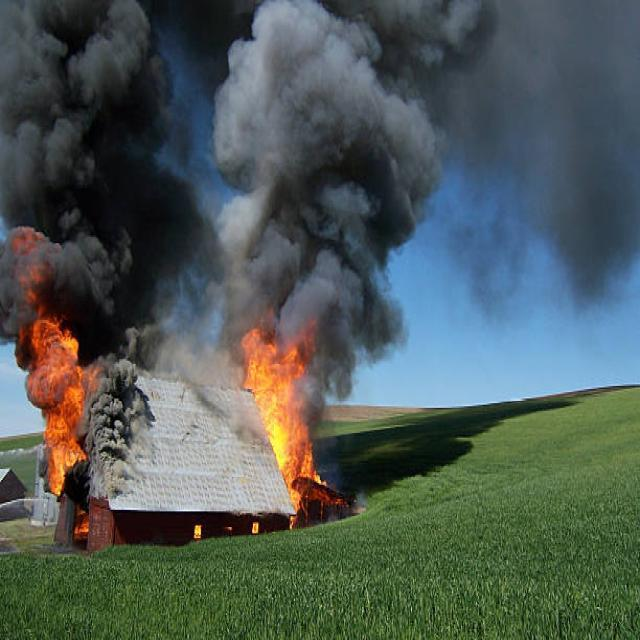Fire: (0, 221, 100, 495), (237, 306, 331, 520)
Smoke: (208, 0, 499, 404), (0, 0, 184, 361), (86, 364, 152, 471)
